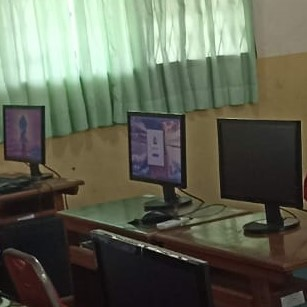monitor: (215, 117, 303, 212), (127, 111, 187, 191), (3, 105, 46, 166)
